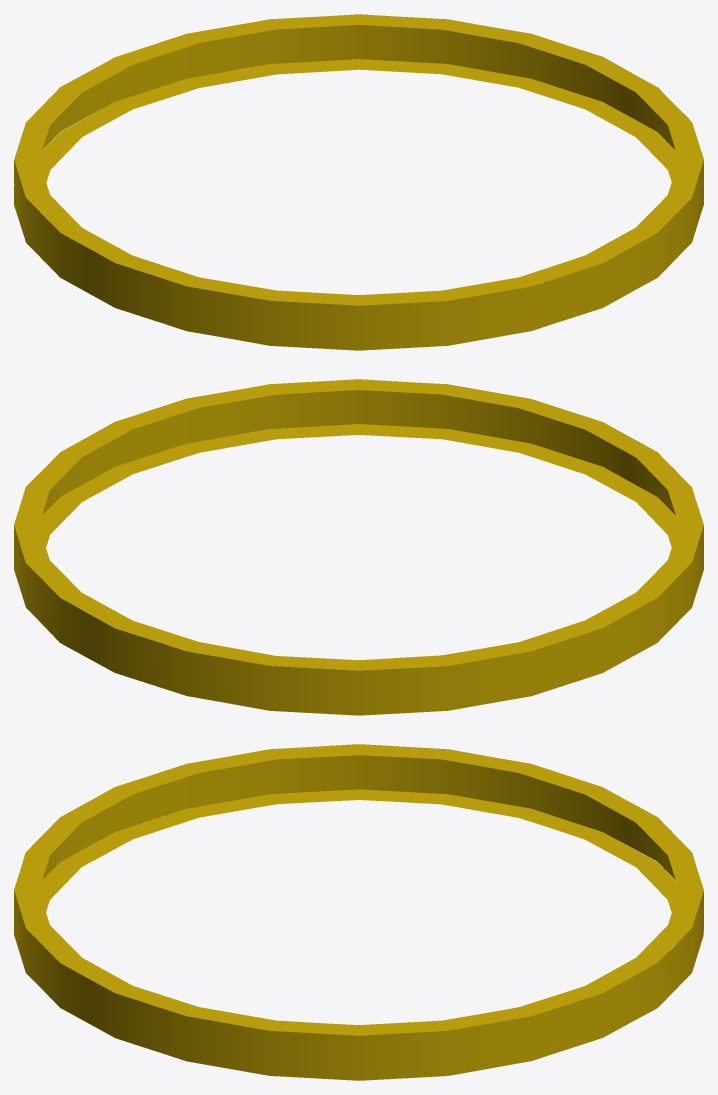
Rendered from original-14.obj.
3 renders of one model, top to bottom at view 1: azimuth 30°, elevation 25°; view 2: azimuth 150°, elevation 25°; view 3: azimuth 270°, elevation 25°, orthographic.
Visible parts, largest first — view 1: #ID86; view 2: #ID86; view 3: #ID86.
Part boxes in pixels (x1,y1,x2,y2): #ID86: (14,14,703,350); #ID86: (14,379,703,715); #ID86: (14,744,703,1080).
Size of the model in its own units: 0.2501 by 0.0181 by 0.2501.
